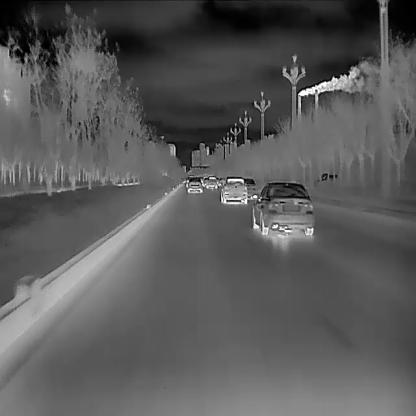car: (252, 180, 315, 235), (219, 176, 245, 202), (240, 176, 255, 198), (186, 178, 202, 192), (204, 176, 217, 188)
